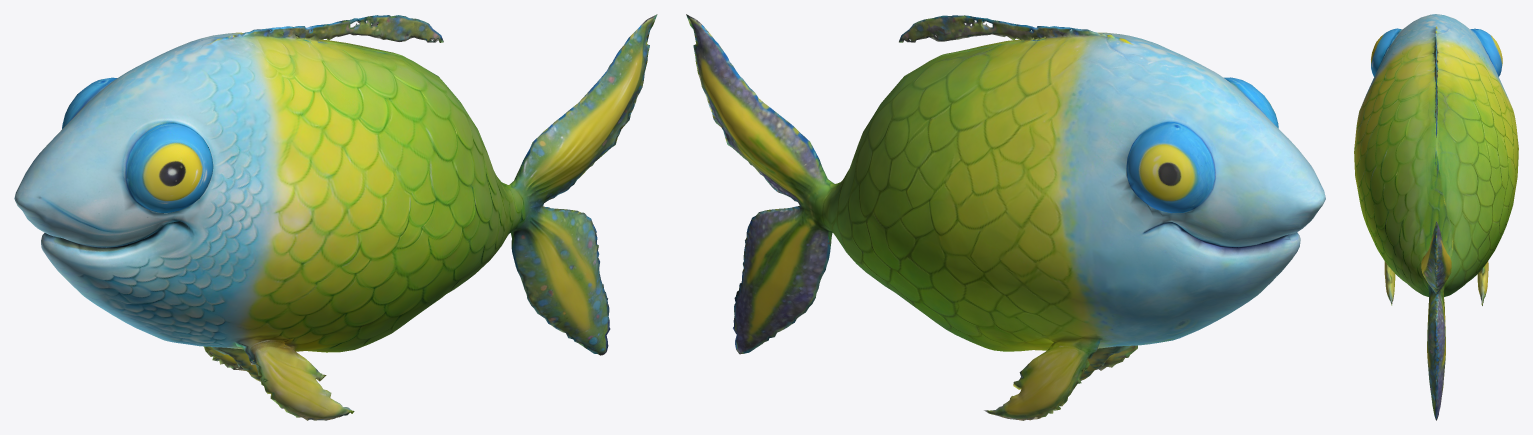
Rendered from sampleMeshy.glb.
The picture shows the model from 3 angles, left to right: view 1: azimuth 30°, elevation 25°; view 2: azimuth 150°, elevation 25°; view 3: azimuth 270°, elevation 25°; orthographic projection. The views are drawn at different scales.
Bounding box in the file's own units: 1.98 × 1.22 × 0.6726.
Materials: 1 (1 with a texture image).
